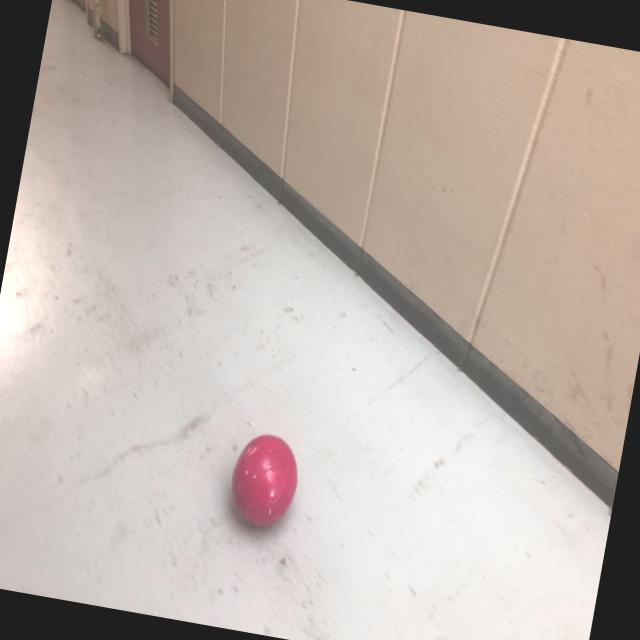red_ball: (224, 428, 306, 534)
